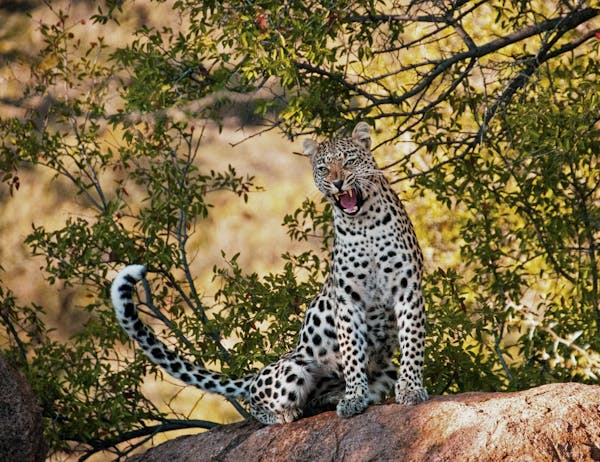Leopard: (112, 120, 427, 425)
